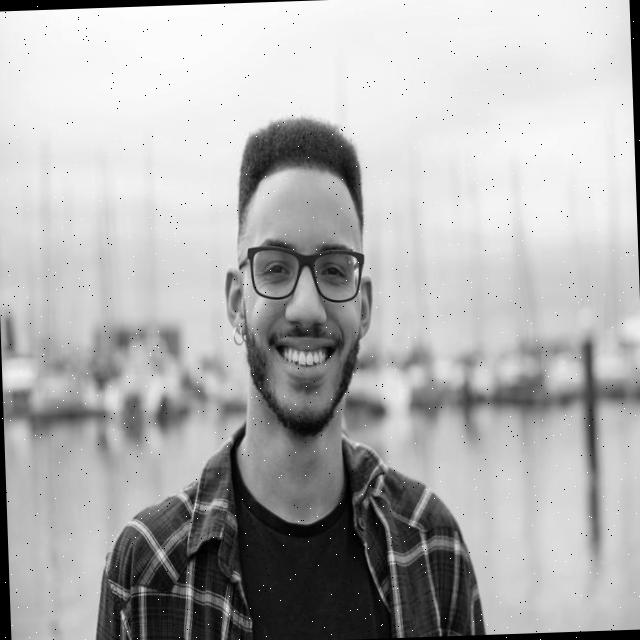Happiness: (231, 162, 372, 434)
